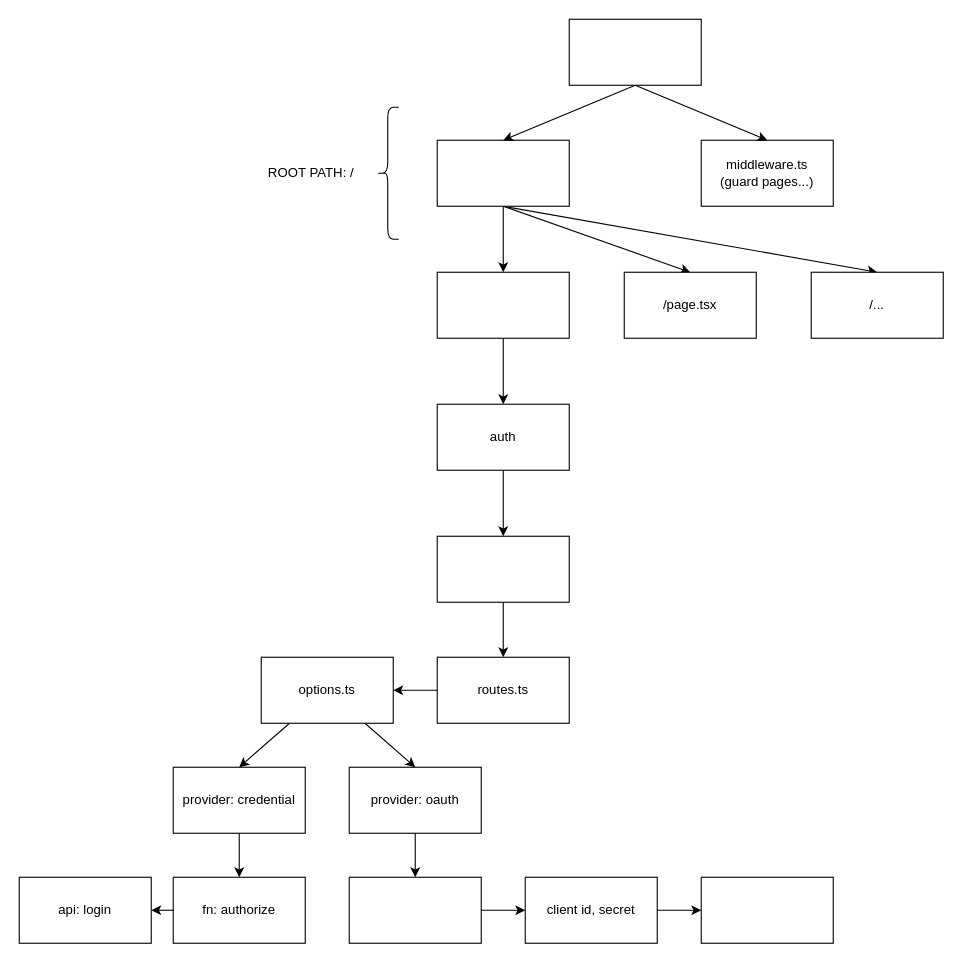
Image size: 963x963. Some labels were removed from this diagram. Here are the shapes that lost their labels. From the top down, the centre of each, then its label:
At pixel 634 51: "src".
At pixel 502 172: "app (aka /)".
At pixel 502 304: "/api".
At pixel 502 568: "[...next-auth]".
At pixel 414 909: "create oauth app".
At pixel 766 909: ".env".
